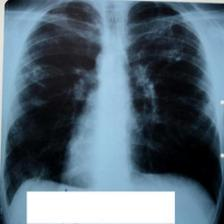tuberculosis: (3, 0, 222, 209)
